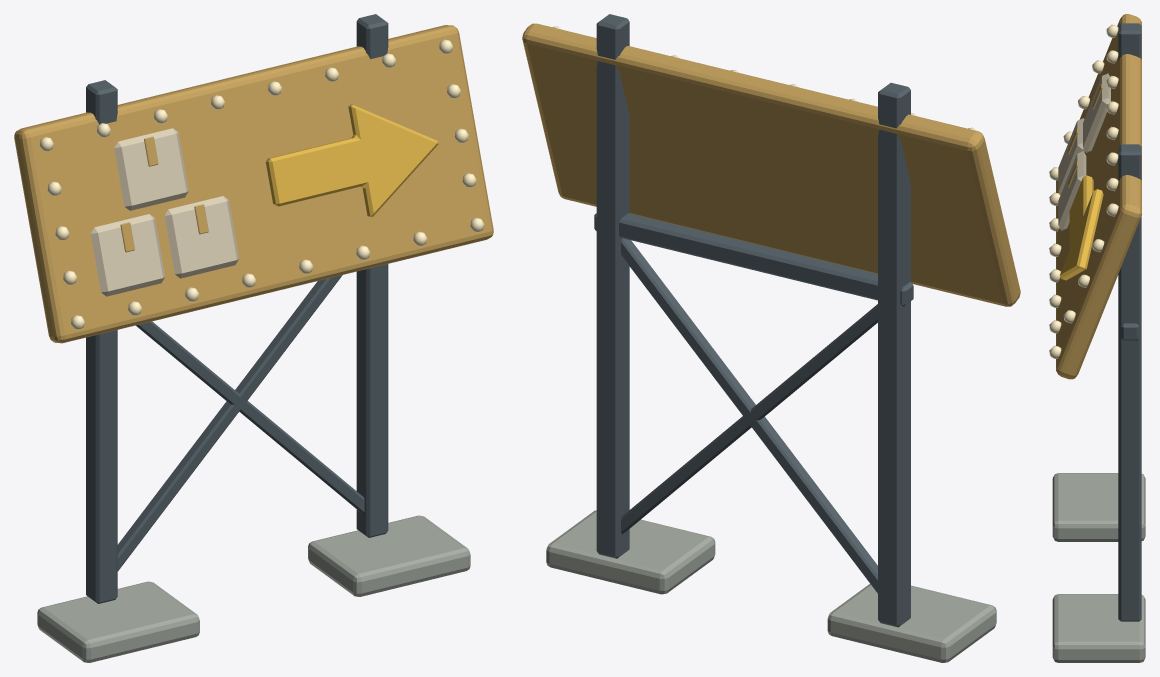
Rendered from warehouse_sign.glb.
3 renders of one model, left to right at view 1: azimuth 30°, elevation 25°; view 2: azimuth 150°, elevation 25°; view 3: azimuth 270°, elevation 25°, orthographic. The views are drawn at different scales.
Parts seen in each view (by area): view 1: Occlude_Sign_Mesh, Keep_Mesh; view 2: Occlude_Sign_Mesh, Keep_Mesh; view 3: Occlude_Sign_Mesh, Keep_Mesh.
Part boxes in pixels (<box>): Occlude_Sign_Mesh: <box>14,14,493,444</box>; Keep_Mesh: <box>37,371,470,662</box>; Occlude_Sign_Mesh: <box>522,14,1020,461</box>; Keep_Mesh: <box>546,385,996,662</box>; Occlude_Sign_Mesh: <box>1049,14,1141,475</box>; Keep_Mesh: <box>1052,473,1145,662</box>.
Size of the model in its own units: 6 by 7 by 1.24.
